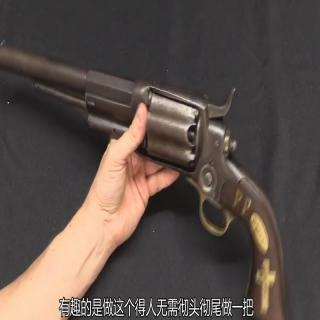gun: (0, 31, 294, 316)
